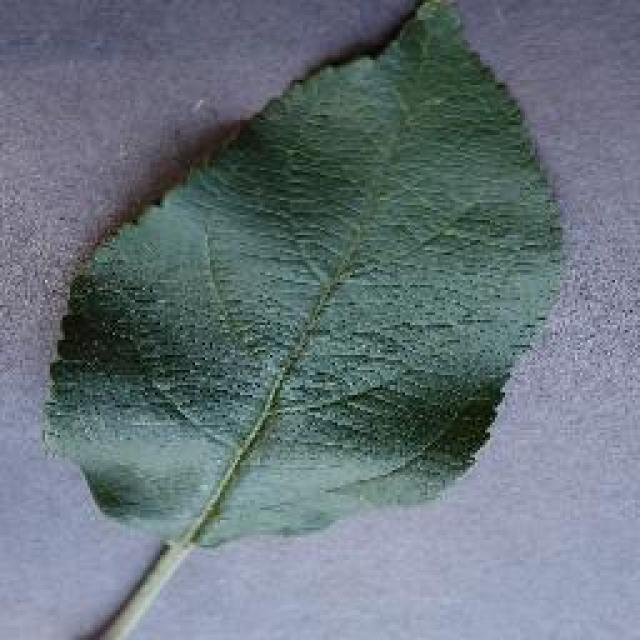apple healthy: (37, 0, 567, 552)
